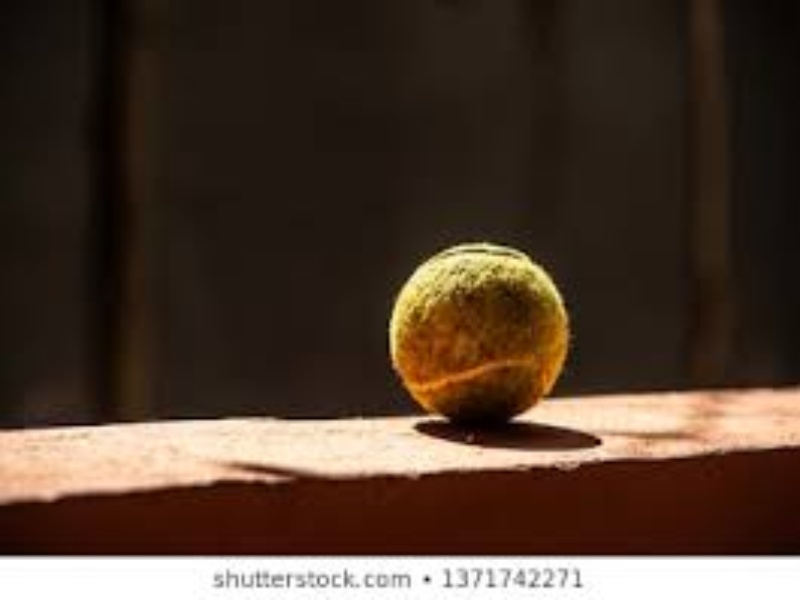tennis ball: (363, 209, 592, 433)
